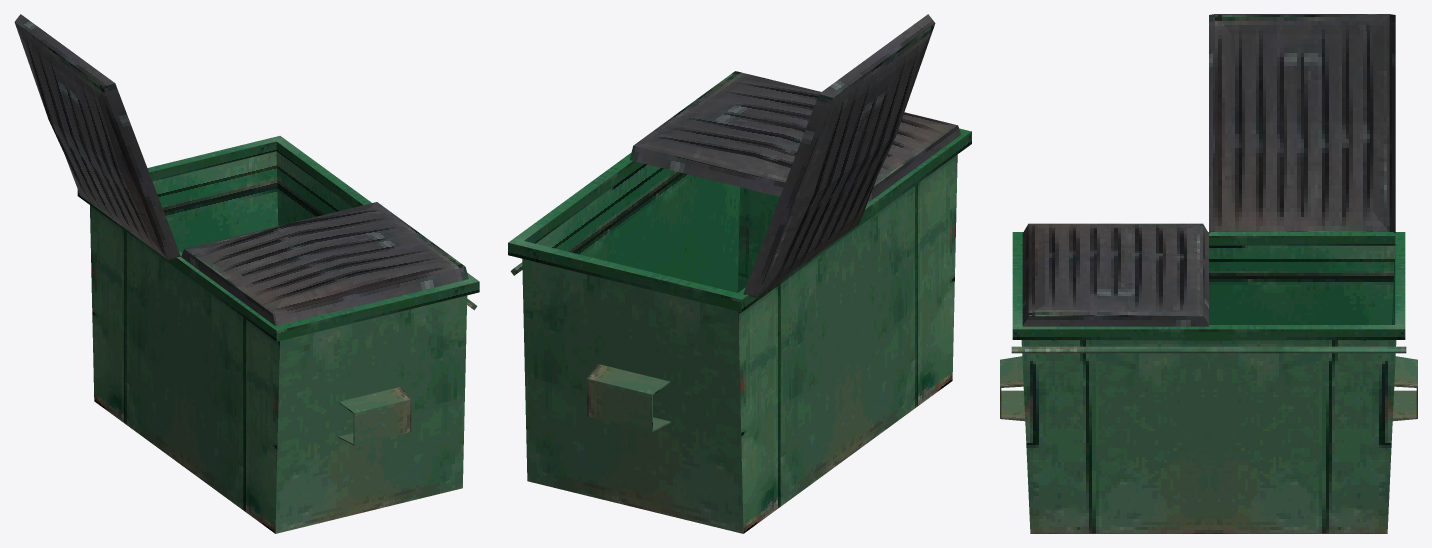
File: dumpster_empty_lid_open.glb
3 renders of one model, left to right at view 1: azimuth 30°, elevation 25°; view 2: azimuth 150°, elevation 25°; view 3: azimuth 270°, elevation 25°, orthographic. The views are drawn at different scales.
Parts seen in each view (by area): view 1: dumpster_empty_lid_open; view 2: dumpster_empty_lid_open; view 3: dumpster_empty_lid_open.
Boxes of the visible parts, left/top/right/bottom form: dumpster_empty_lid_open: left=14, top=14, right=479, bottom=533; dumpster_empty_lid_open: left=508, top=14, right=971, bottom=533; dumpster_empty_lid_open: left=1000, top=14, right=1417, bottom=533.
Bounding box in the file's own units: 2.74 × 3.84 × 3.67.
Materials: 1 (1 with a texture image).
